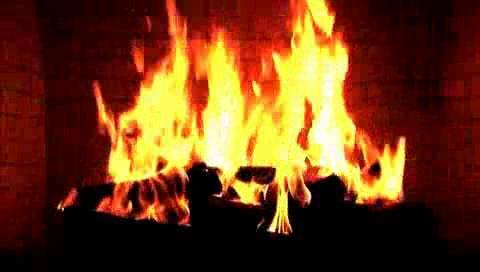fire: (61, 2, 414, 215)
